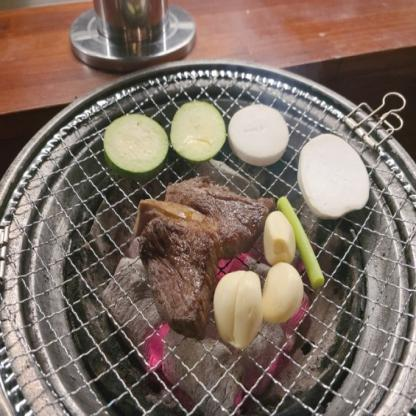Carne: (135, 172, 274, 326)
